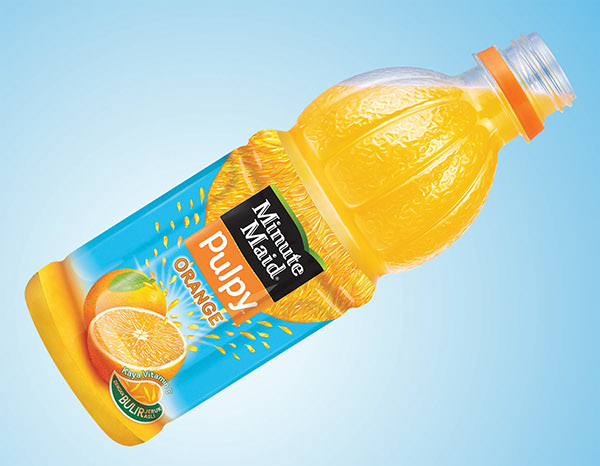botol: (17, 5, 573, 445), (25, 29, 573, 445)
